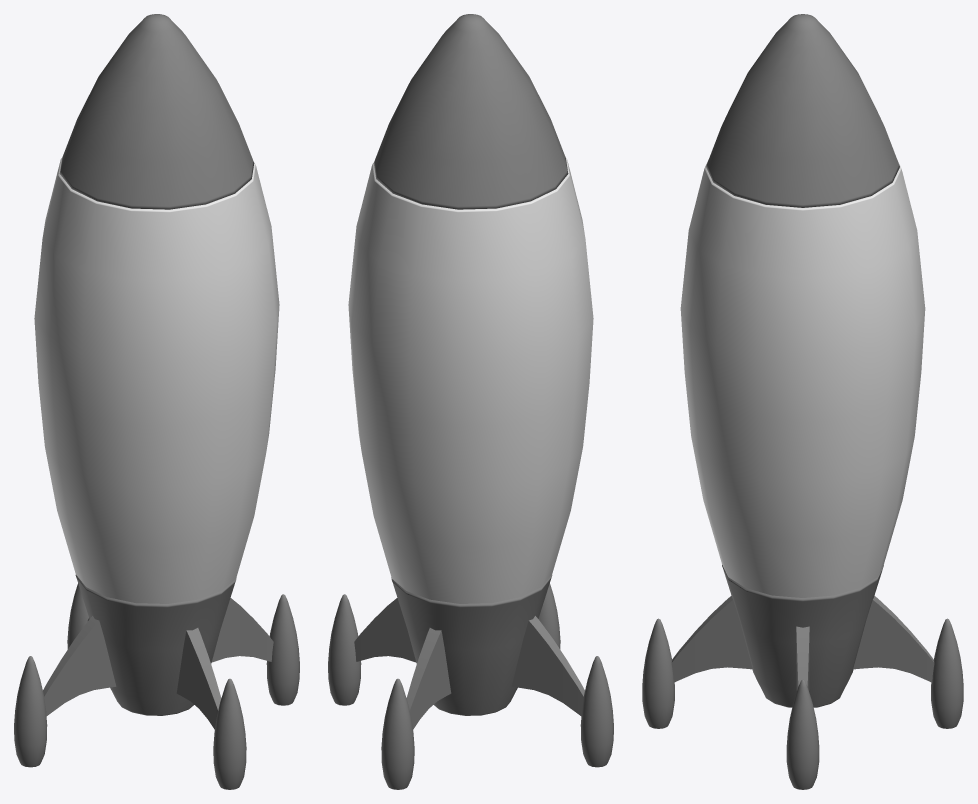
Rendered from ToyRocketGrey.fbx.
3 renders of one model, left to right at view 1: azimuth 30°, elevation 25°; view 2: azimuth 150°, elevation 25°; view 3: azimuth 270°, elevation 25°, orthographic.
Visible parts, largest first — view 1: Rocket, RocketCaps; view 2: Rocket, RocketCaps; view 3: Rocket, RocketCaps.
Boxes of the visible parts, x1=… form: Rocket: x1=34, y1=158, x2=279, y2=603; RocketCaps: x1=14, y1=14, x2=299, y2=789; Rocket: x1=348, y1=158, x2=593, y2=603; RocketCaps: x1=328, y1=14, x2=613, y2=789; Rocket: x1=680, y1=159, x2=925, y2=597; RocketCaps: x1=642, y1=14, x2=963, y2=789.
Size of the model in its own units: 3.11 by 7.56 by 3.11.
